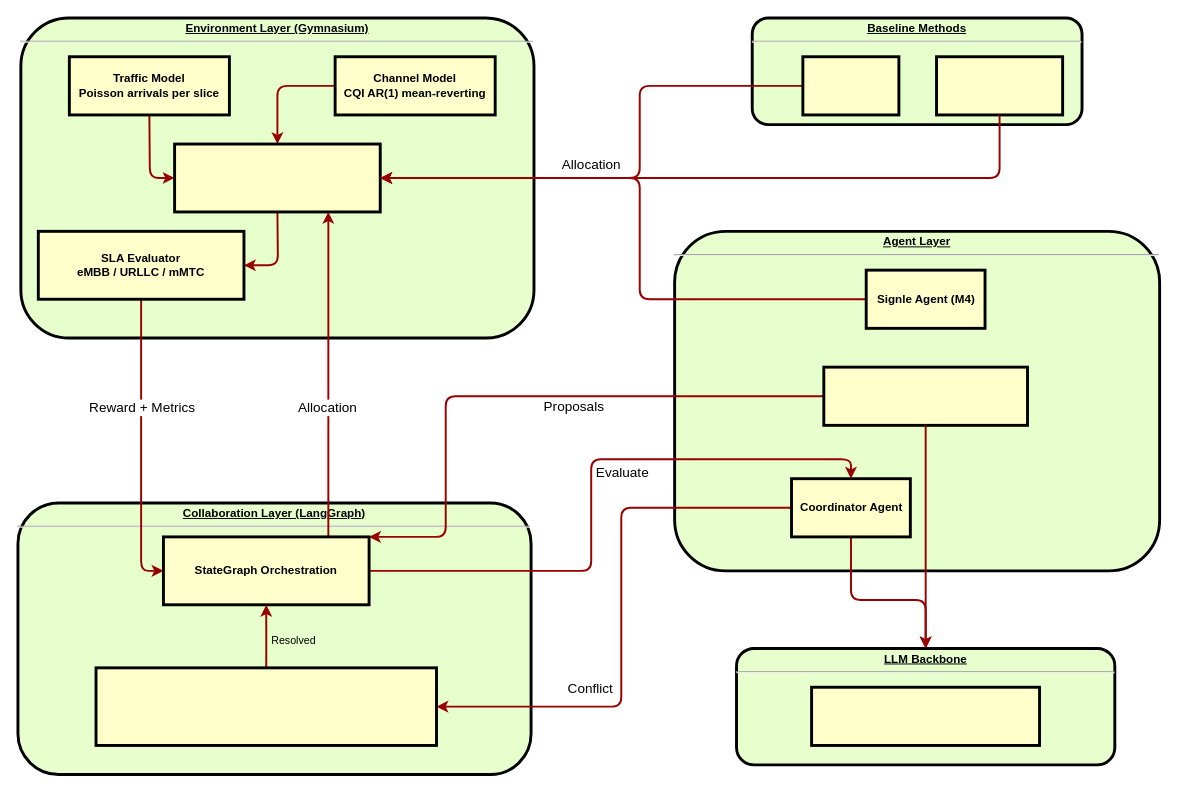
This 1178x792 diagram has some shape labels left out. Here are the shapes that lost their labels. From the top down, the centre of each, then its label:
At point 850,85: "M1: Fixed-Ratio (5:3:2)".
At point 999,85: "M2: Threshold-Based Dynamic Adjustment".
At point 277,177: "NetworkSlicingEnv State: 15-dim observation Action: 3-dim allocation ratio".
At point 925,395: "Slice Agent (eMBB * 1, URLLC * 1, mMTC * 1)".
At point 265,706: "Negotiation Protocol Priority Arbitration (PA) / Proportional Compromise (PC)".
At point 925,715: "ChatOpenAI GPT-4 API".
